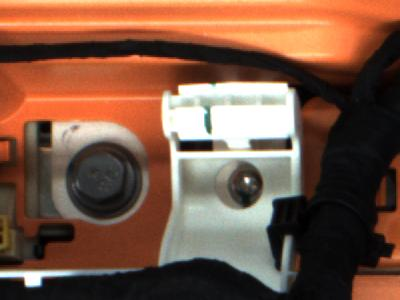nut_b: (56, 132, 153, 224)
